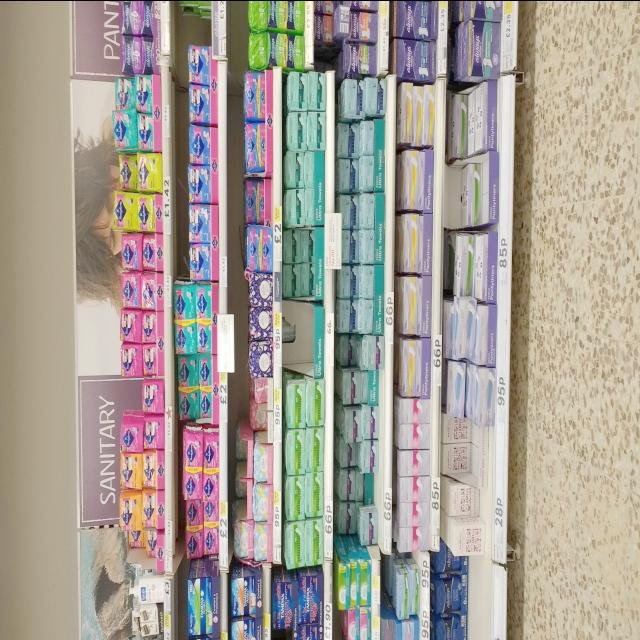empty_space: (467, 562, 490, 638), (293, 309, 313, 361), (188, 10, 212, 43)
